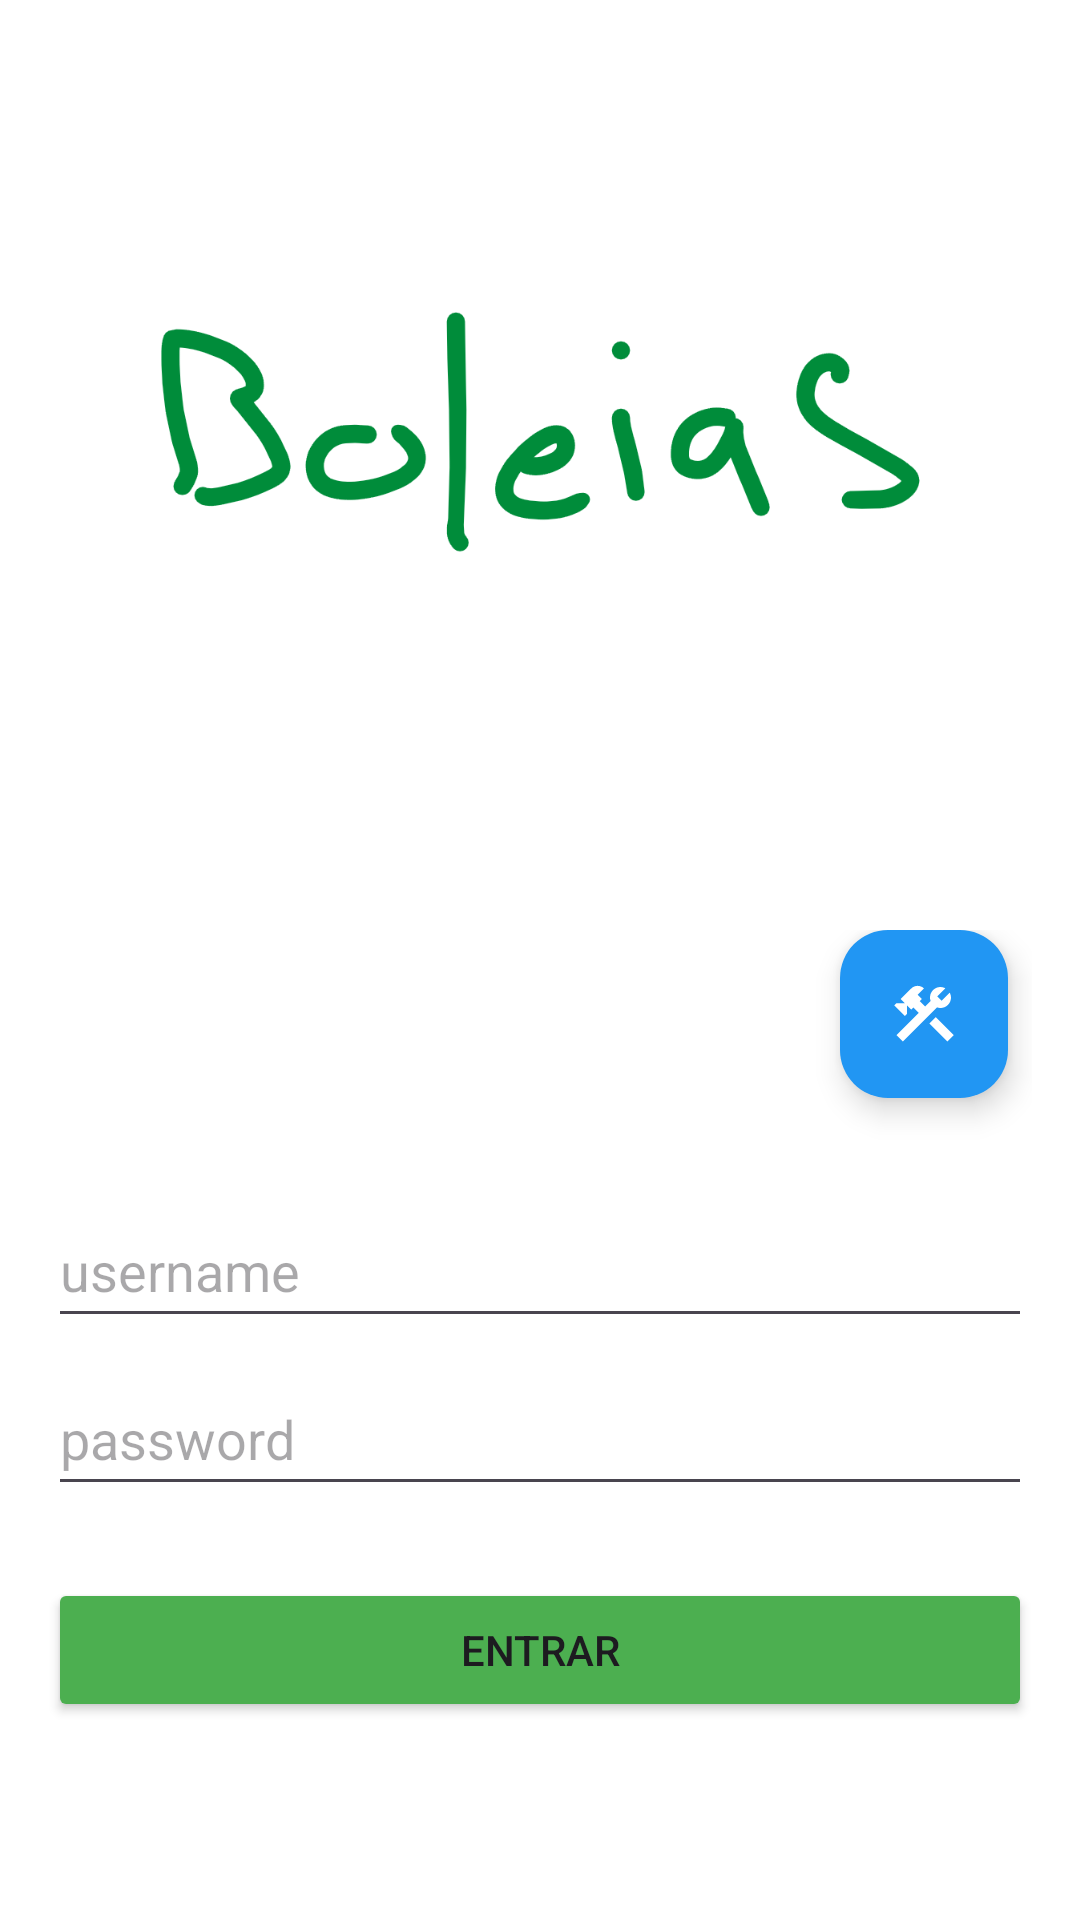

Point at icon controls on the screen. Image size 1080px x 1920px, points as [x,y].
config: [924,1014]
